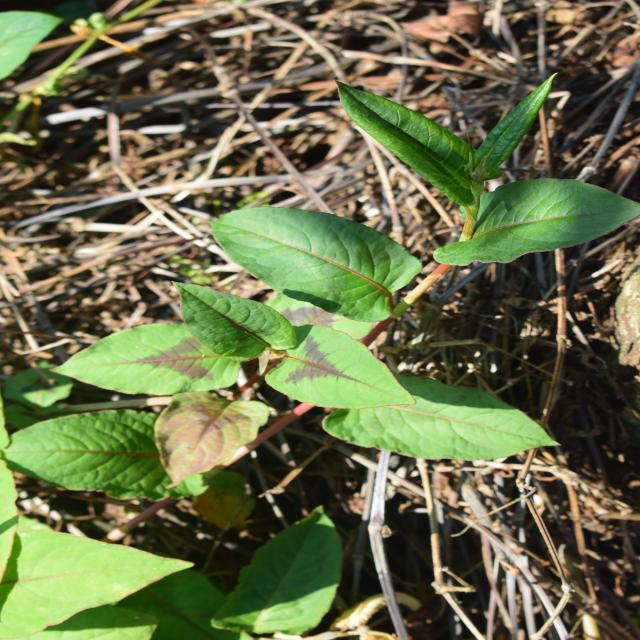Chinese_knotweed: (173, 142, 548, 593)
